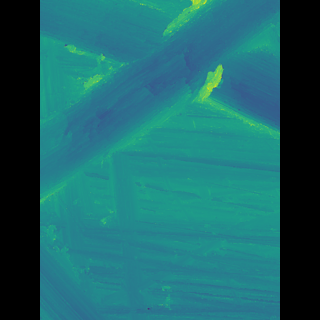Loch: (69, 0, 244, 208)
